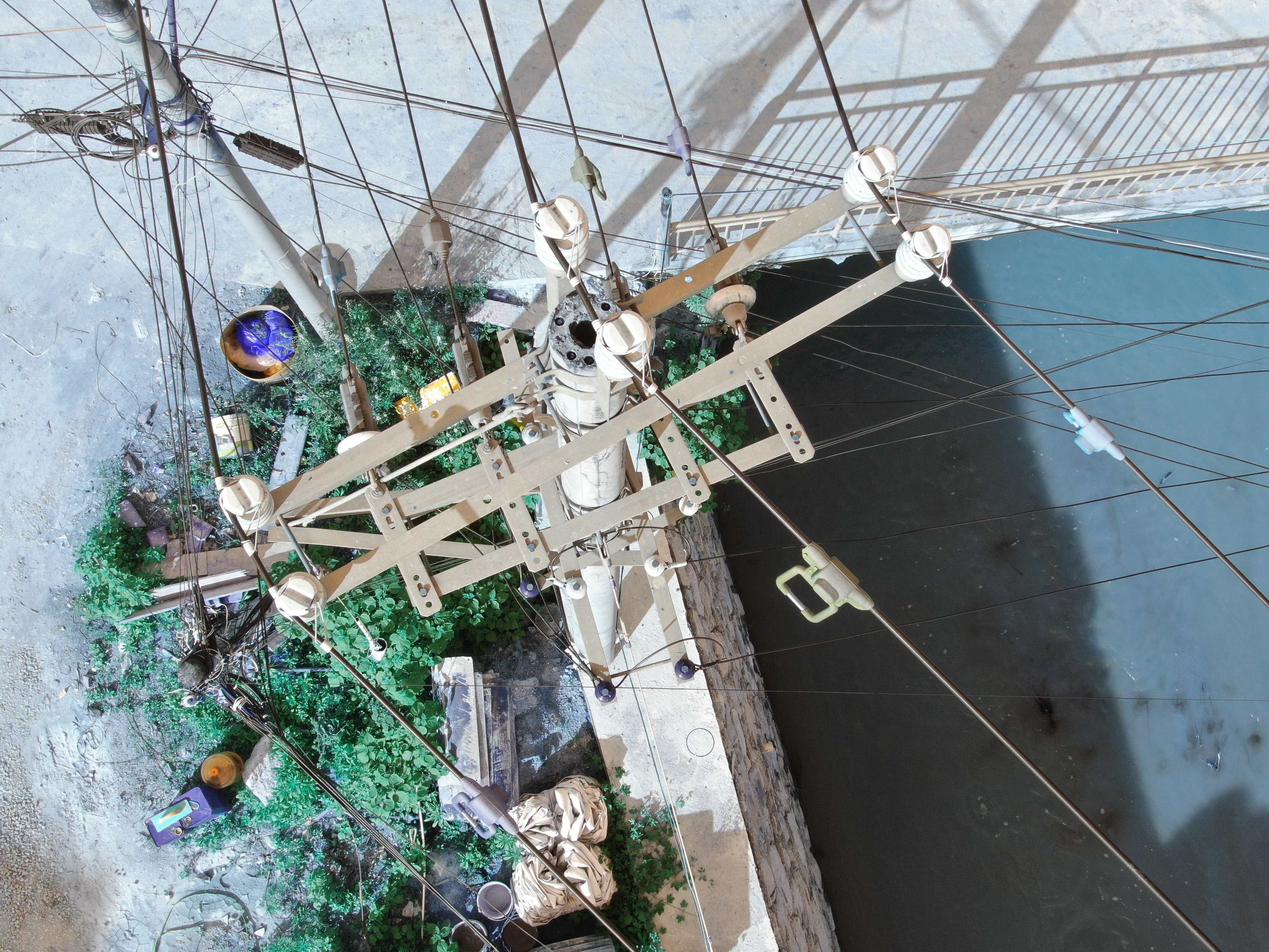severe_soiling_no_discharge_whole: (703, 284, 759, 327), (521, 424, 545, 444)
